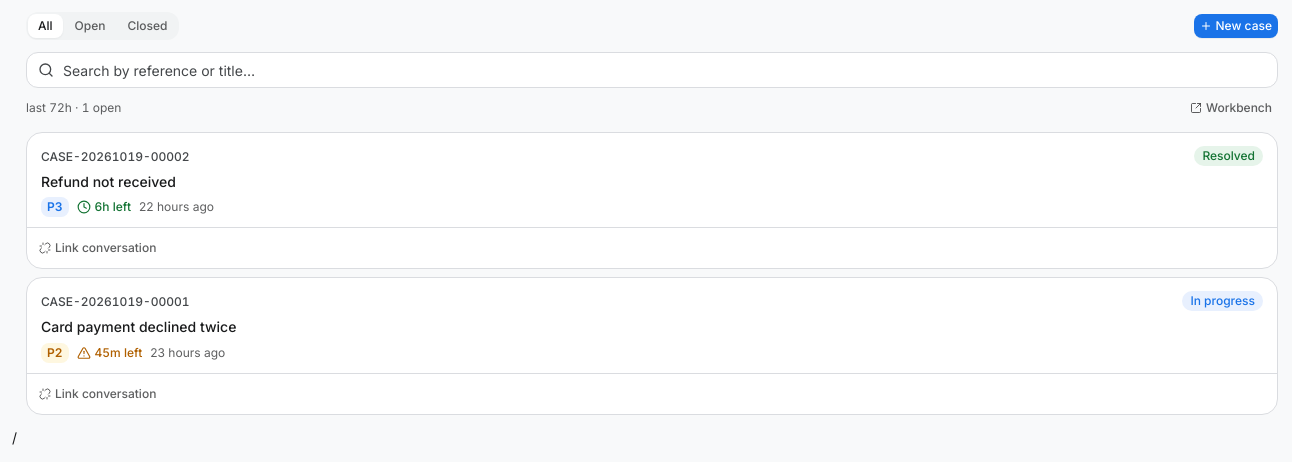
Test: conversation Cases tab › states the customer's recent window and open cases, and counts search results
This screenshot has width=1292, height=462.
Expected: the text "last 72h · 1 open" is shown, [26,100,121,116]
In the field with placeholder "Search by reference or title…": (652, 70) [26,52,1278,88], type "refund"
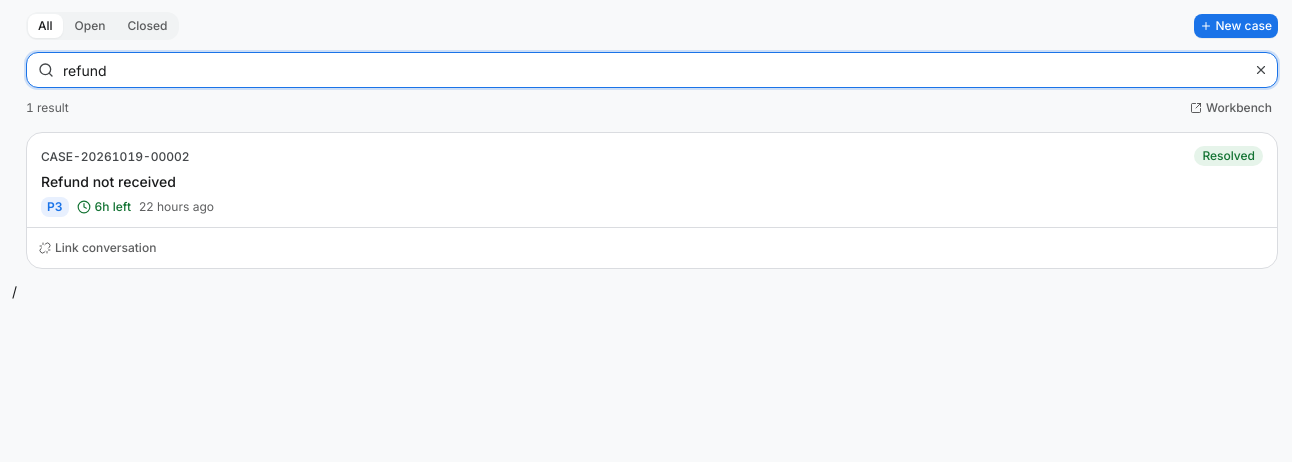
Now the text "1 result" is shown, box [26,100,69,116]
